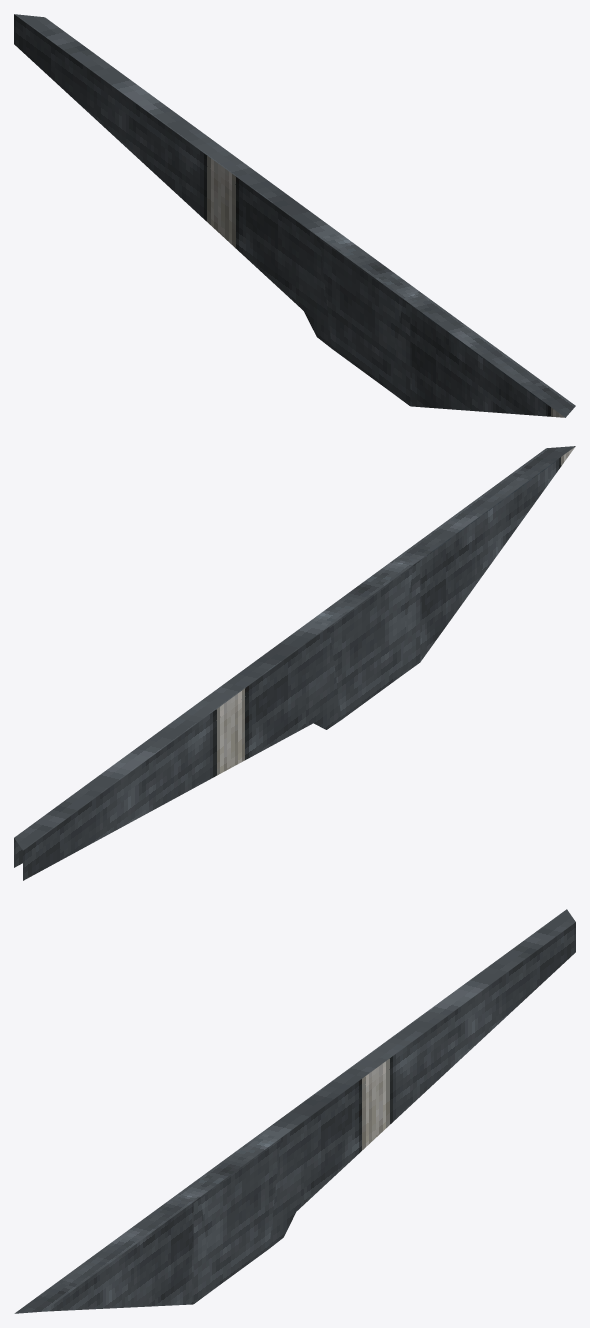
Rendered from room_2.glb.
3 views of the same model, one above another, from view 1: azimuth 30°, elevation 25°; view 2: azimuth 150°, elevation 25°; view 3: azimuth 330°, elevation 25° (orthographic).
Parts seen in each view (by area): view 1: Plane.006; view 2: Plane.006; view 3: Plane.006.
Boxes of the visible parts, x1,y1,x2,y2 form: Plane.006: [14, 14, 575, 417]; Plane.006: [14, 446, 575, 880]; Plane.006: [14, 909, 575, 1313].
Size of the model in its own units: 0.0749 by 0.3658 by 3.58.
Materials: 1 (1 with a texture image).
